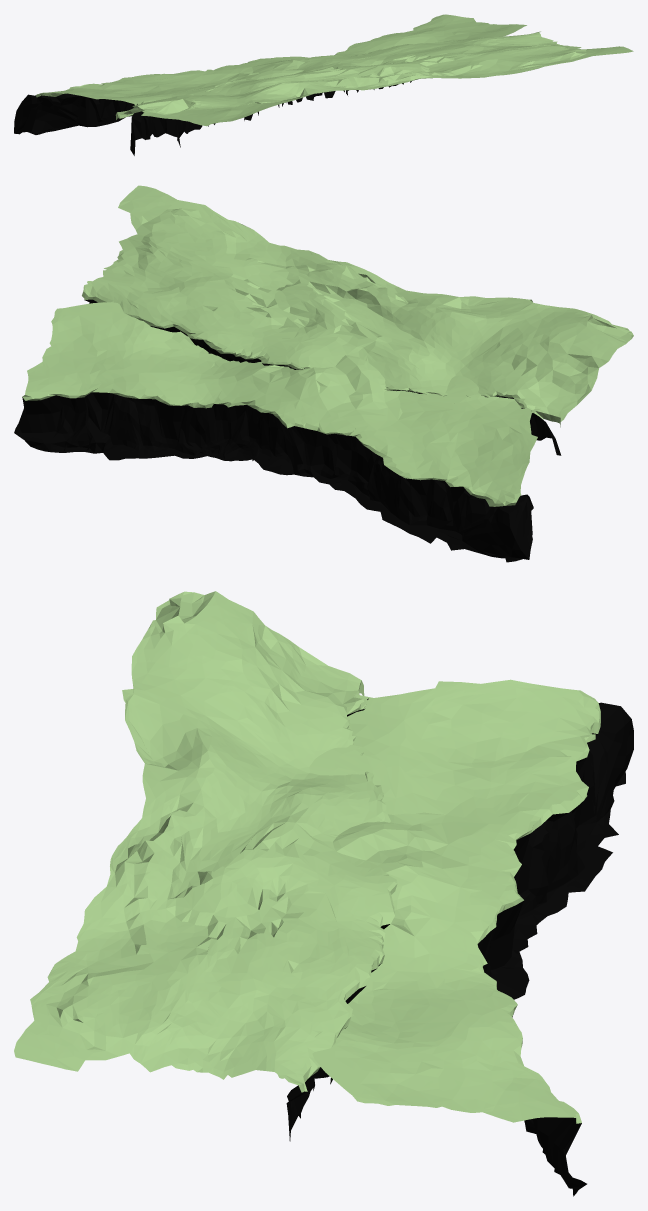
The model's file is Forest.fbx.
3 renders of one model, top to bottom at view 1: azimuth 30°, elevation 25°; view 2: azimuth 150°, elevation 25°; view 3: azimuth 270°, elevation 25°, orthographic. The views are drawn at different scales.
Parts seen in each view (by area): view 1: grnd; view 2: grnd; view 3: grnd.
Boxes of the visible parts, box(x1,y1,x2,y2) form: grnd: box(14, 14, 633, 155); grnd: box(14, 185, 633, 562); grnd: box(14, 591, 633, 1196).
Size of the model in its own units: 9778 by 2377 by 5618.
